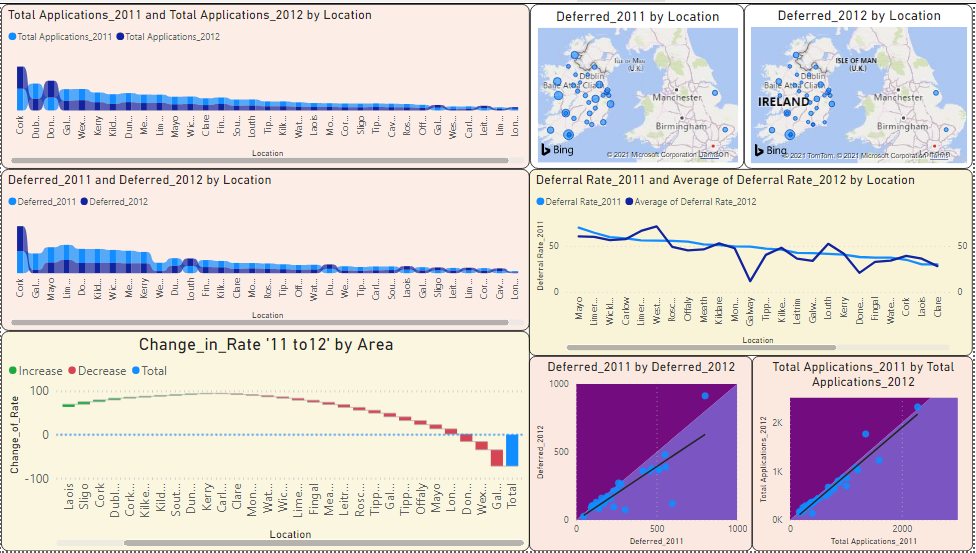

The dashboard page shown, as its layout file describes it:
{"tool":"powerbi","page":{"name":"Page 6","canvas":[1280,720],"ordinal":5},"visuals":[{"type":"ribbonChart","fields":{"Y":["Sum(applications_deferred_by_area_2011_and_2012n.Total Applications_2011)","Sum(applications_deferred_by_area_2011_and_2012n.Total Applications_2012)"],"Category":["applications_deferred_by_area_2011_and_2012n.Location"]},"box":[0,0,696.3,217.2],"z":0},{"type":"ribbonChart","fields":{"Category":["applications_deferred_by_area_2011_and_2012n.Location"],"Y":["Sum(applications_deferred_by_area_2011_and_2012n.Deferred_2011)","Sum(applications_deferred_by_area_2011_and_2012n.Deferred_2012)"]},"box":[0,217.2,696.3,213.2],"z":1000},{"type":"map","fields":{"Category":["applications_deferred_by_area_2011_and_2012n.Location"],"Size":["Sum(applications_deferred_by_area_2011_and_2012n.Deferred_2011)"]},"box":[696.3,0,281.7,217.2],"z":2000},{"type":"map","fields":{"Category":["applications_deferred_by_area_2011_and_2012n.Location"],"Size":["Sum(applications_deferred_by_area_2011_and_2012n.Deferred_2012)"]},"box":[978,0,301.4,217.2],"z":3000},{"type":"scatterChart","fields":{"X":["Sum(applications_deferred_by_area_2011_and_2012n.Deferred_2011)"],"Y":["applications_deferred_by_area_2011_and_2012n.Deferred_2012"]},"box":[695,463.3,293.5,256.7],"z":4000},{"type":"scatterChart","fields":{"X":["Sum(applications_deferred_by_area_2011_and_2012n.Total Applications_2011)"],"Y":["applications_deferred_by_area_2011_and_2012n.Total Applications_2012"]},"box":[988.5,463.3,290.9,256.7],"z":5000},{"type":"lineChart","fields":{"Category":["applications_deferred_by_area_2011_and_2012n.Location"],"Y":["Sum(applications_deferred_by_area_2011_and_2012n.Deferral Rate_2011)"],"Y2":["Avg(applications_deferred_by_area_2011_and_2012n.Deferral Rate_2012)"]},"box":[695,217.2,584.4,246.1],"z":6000},{"type":"waterfallChart","title":"Change_in_Rate ''11 to12'' by Area","fields":{"Category":["applications_deferred_by_area_2011_and_2012n.Location"],"Y":["Sum(applications_deferred_by_area_2011_and_2012n.Change_of_Rate)"]},"box":[0,430.4,696.3,289.6],"z":6001}]}

Visuals, with their boxes in screenshot pixels (x1, y1, x2, y2), scaled from the page's 1280x720 canvas onto the 976x553 screenshot:
ribbonChart - Sum(applications_deferred_by_area_2011_and_2012n.Total Applications_2011) x Sum(applications_deferred_by_area_2011_and_2012n.Total Applications_2012): crop(0, 0, 531, 167)
ribbonChart - applications_deferred_by_area_2011_and_2012n.Location x Sum(applications_deferred_by_area_2011_and_2012n.Deferred_2011): crop(0, 167, 531, 331)
map - applications_deferred_by_area_2011_and_2012n.Location x Sum(applications_deferred_by_area_2011_and_2012n.Deferred_2011): crop(531, 0, 746, 167)
map - applications_deferred_by_area_2011_and_2012n.Location x Sum(applications_deferred_by_area_2011_and_2012n.Deferred_2012): crop(746, 0, 975, 167)
scatterChart - Sum(applications_deferred_by_area_2011_and_2012n.Deferred_2011) x applications_deferred_by_area_2011_and_2012n.Deferred_2012: crop(530, 356, 754, 552)
scatterChart - Sum(applications_deferred_by_area_2011_and_2012n.Total Applications_2011) x applications_deferred_by_area_2011_and_2012n.Total Applications_2012: crop(754, 356, 975, 552)
lineChart - applications_deferred_by_area_2011_and_2012n.Location x Sum(applications_deferred_by_area_2011_and_2012n.Deferral Rate_2011): crop(530, 167, 975, 356)
"Change_in_Rate ''11 to12'' by Area" waterfallChart: crop(0, 331, 531, 552)
